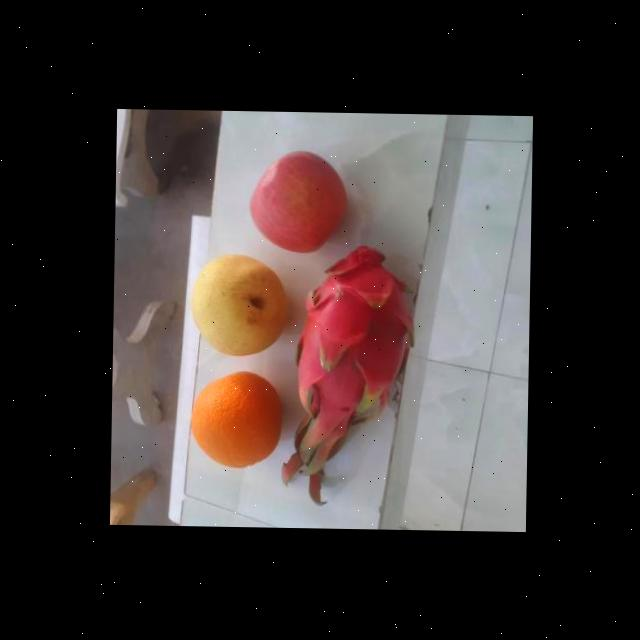apple: (248, 146, 342, 254)
orange: (186, 368, 284, 469)
pear: (190, 246, 288, 359)
pitaya: (296, 228, 410, 419)
